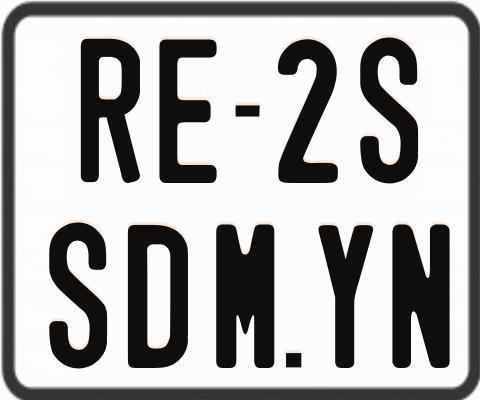2: (275, 39, 339, 184)
D: (127, 222, 187, 365)
E: (157, 36, 217, 186)
M: (215, 224, 276, 370)
N: (392, 224, 452, 371)
R: (80, 38, 140, 182)
S: (357, 35, 417, 184), (49, 220, 107, 372)
Y: (319, 225, 375, 373)
